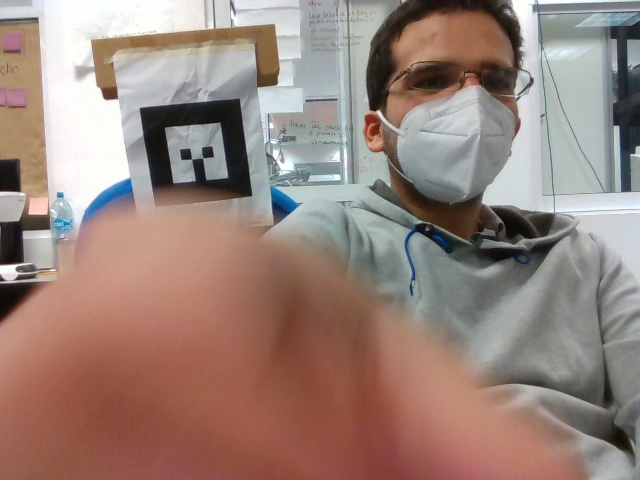ar1: (137, 96, 257, 206)
